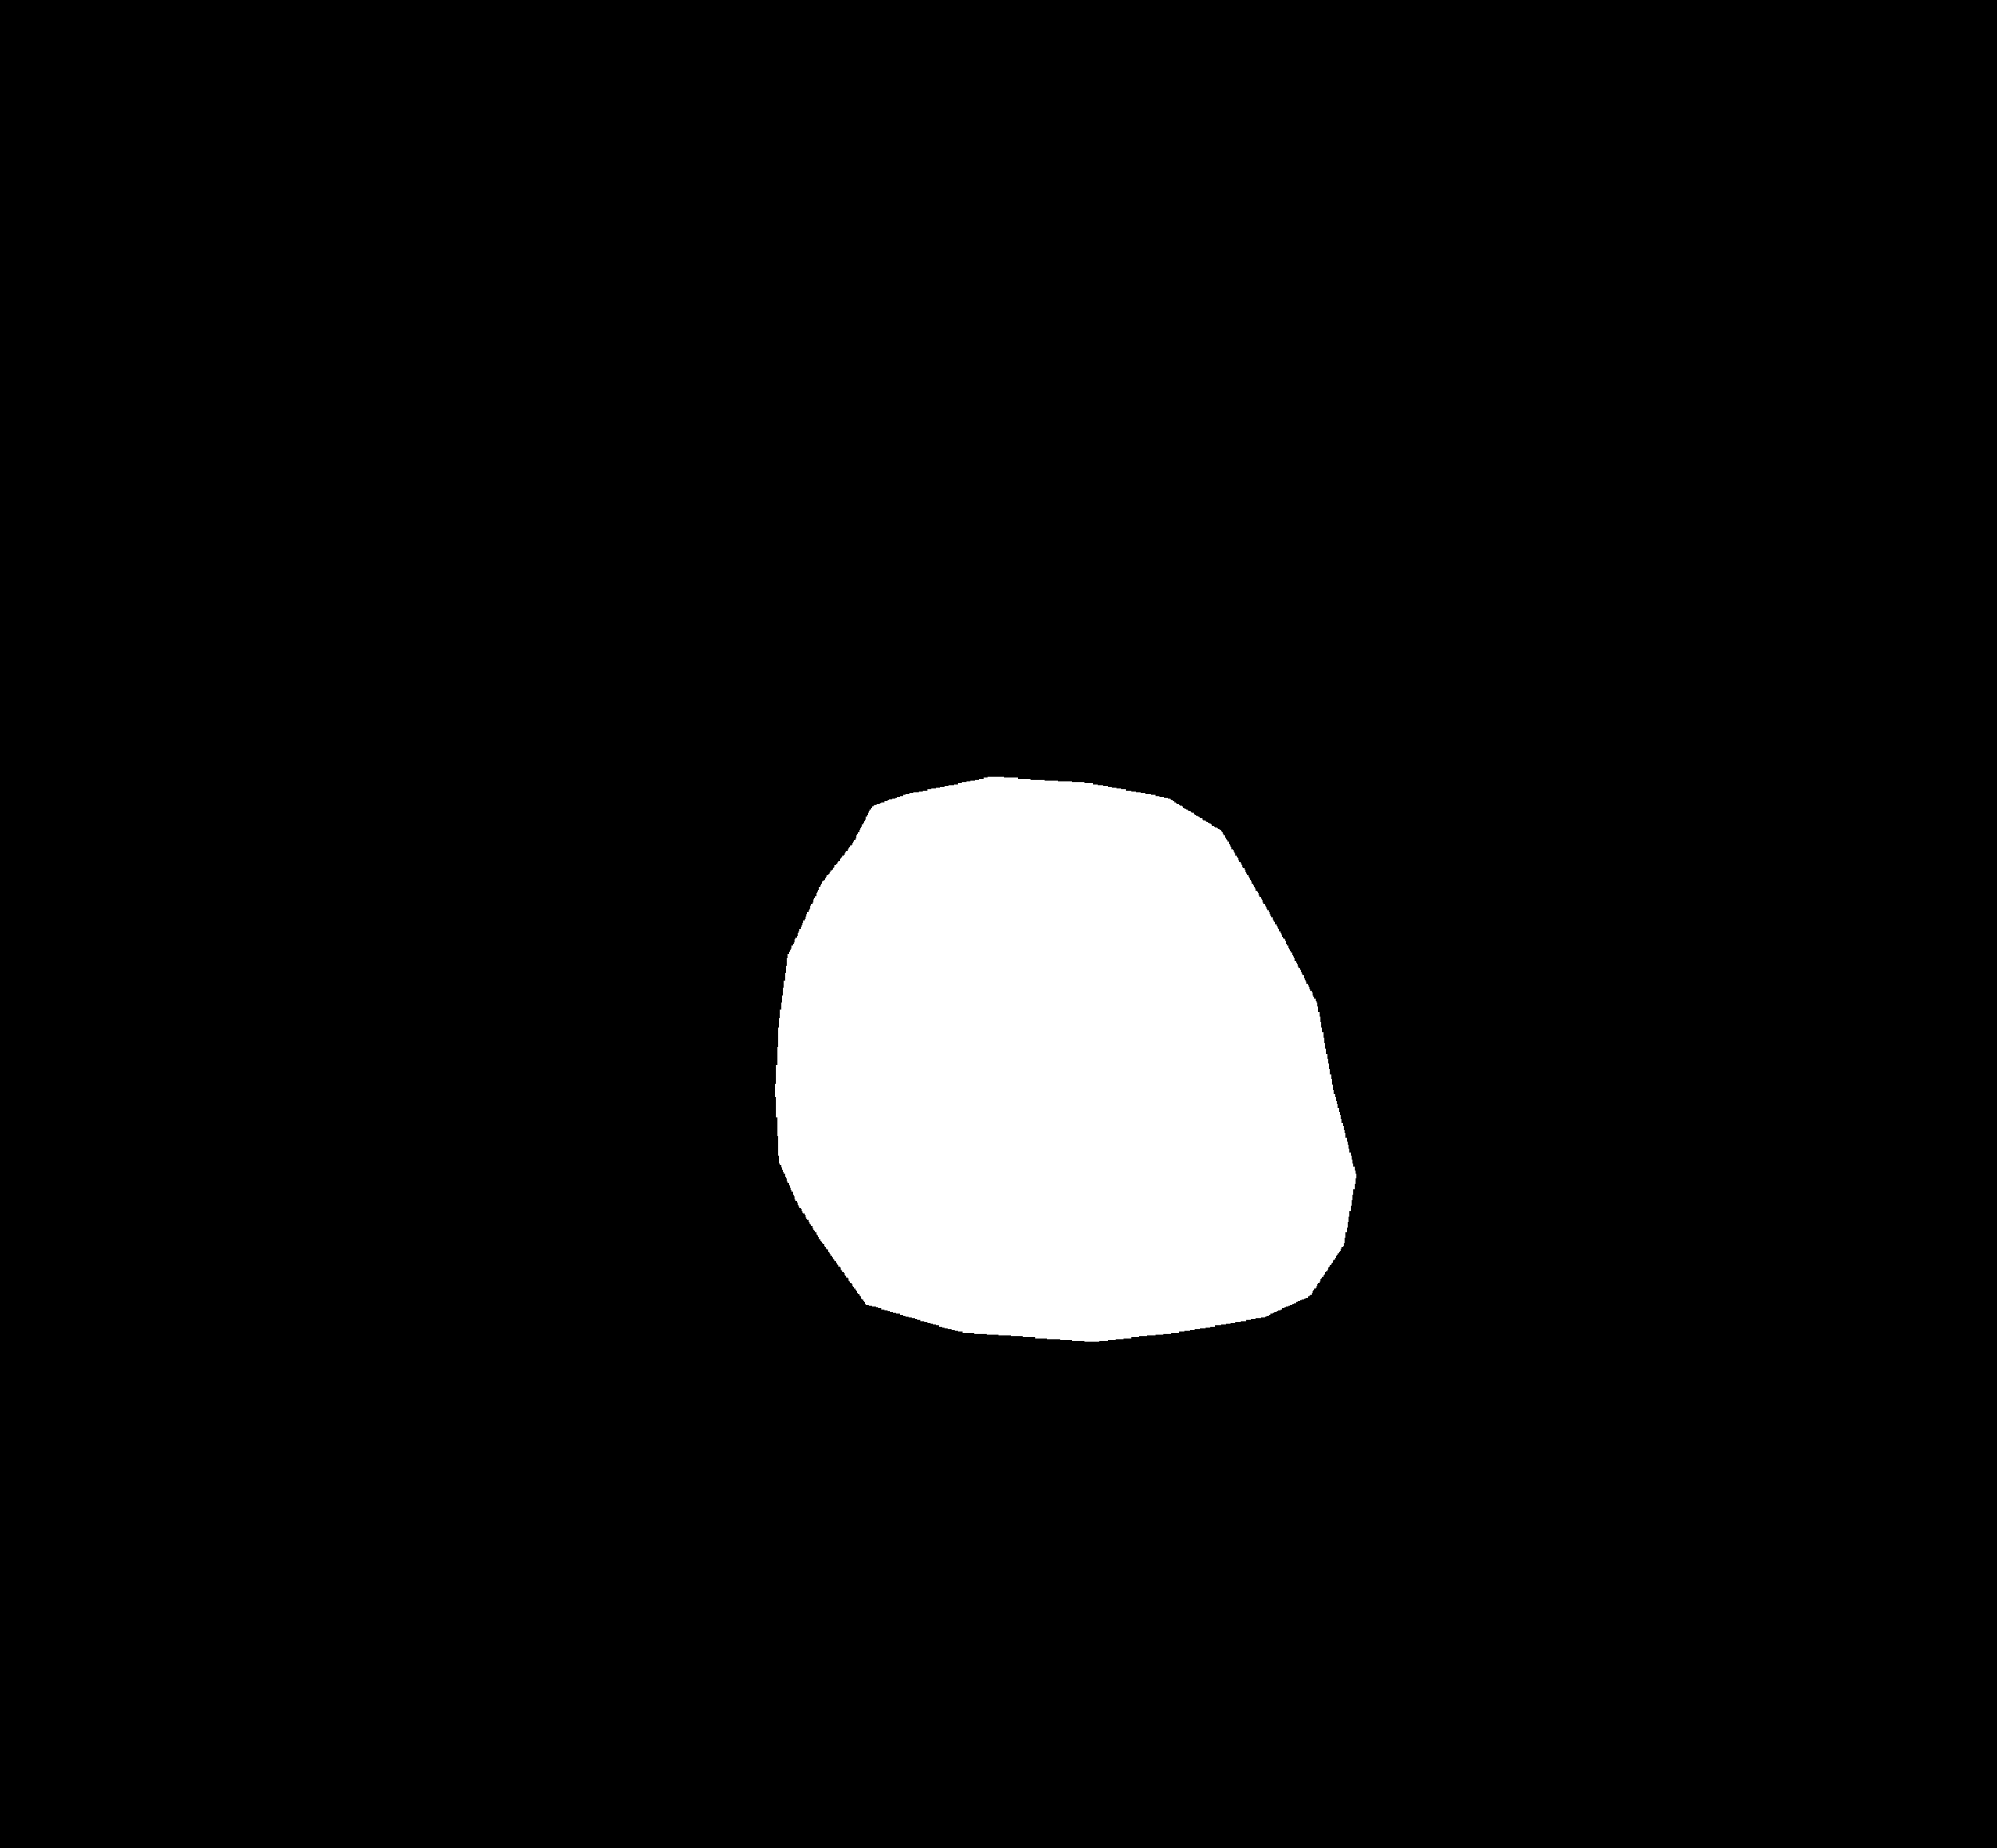heart: (779, 837, 1345, 1483)
left_lung: (264, 224, 929, 1552)
right_lung: (1103, 207, 1771, 1615)
